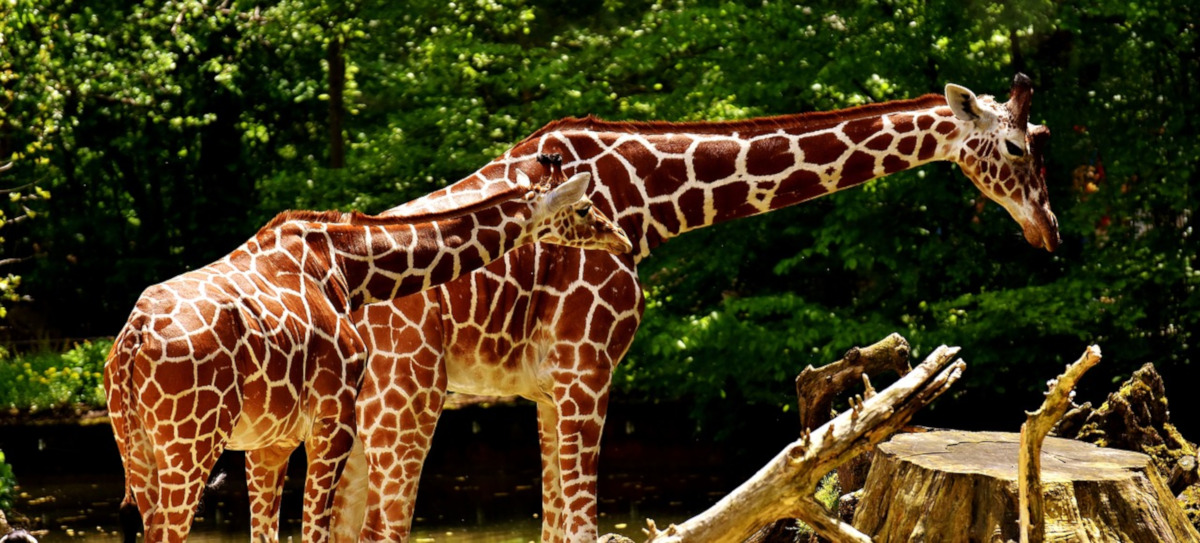Jirafa: (764, 46, 1111, 273), (338, 143, 649, 282)
